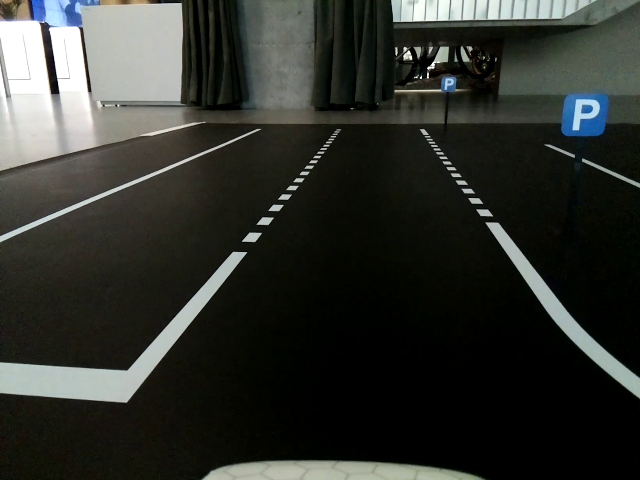park: (564, 94, 604, 137), (442, 75, 458, 92)
